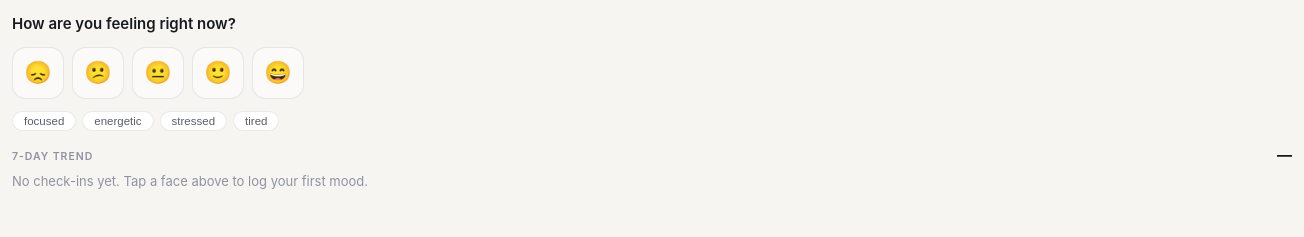
MoodWidget › logs a check-in when a face is tapped, including toggled tags
Expected: the text "No check-ins yet. Tap a face above to log your first mood." is shown, [12,172,368,188]
Click the button "focused" at (44, 121), box [12,111,76,131]
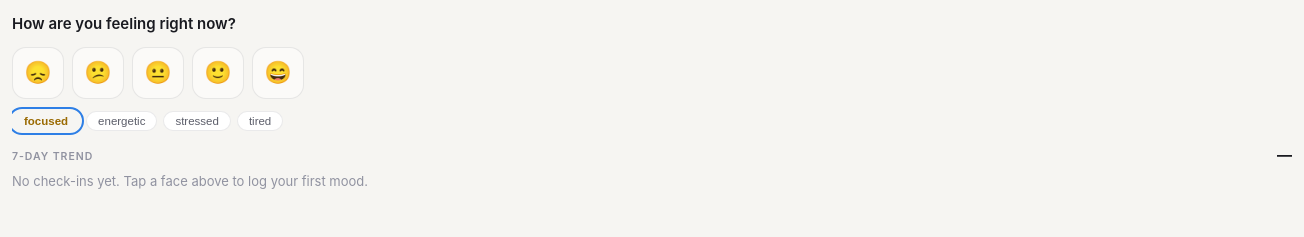
Click the button named "Good" at (218, 73), box [192,47,244,99]
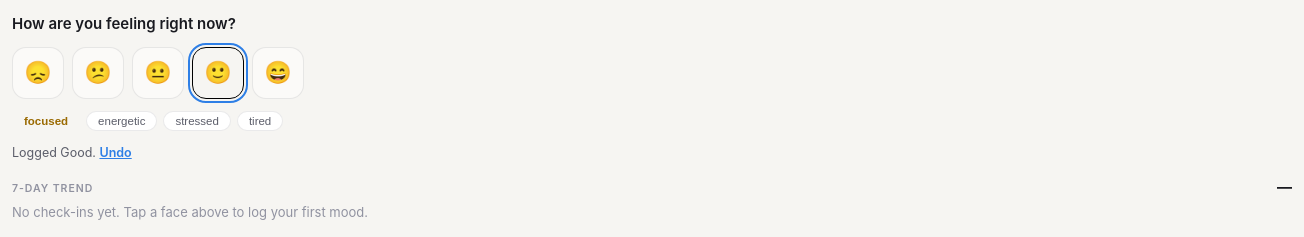
Now the text "Logged Good. Undo" is shown, box [12,143,132,163]
